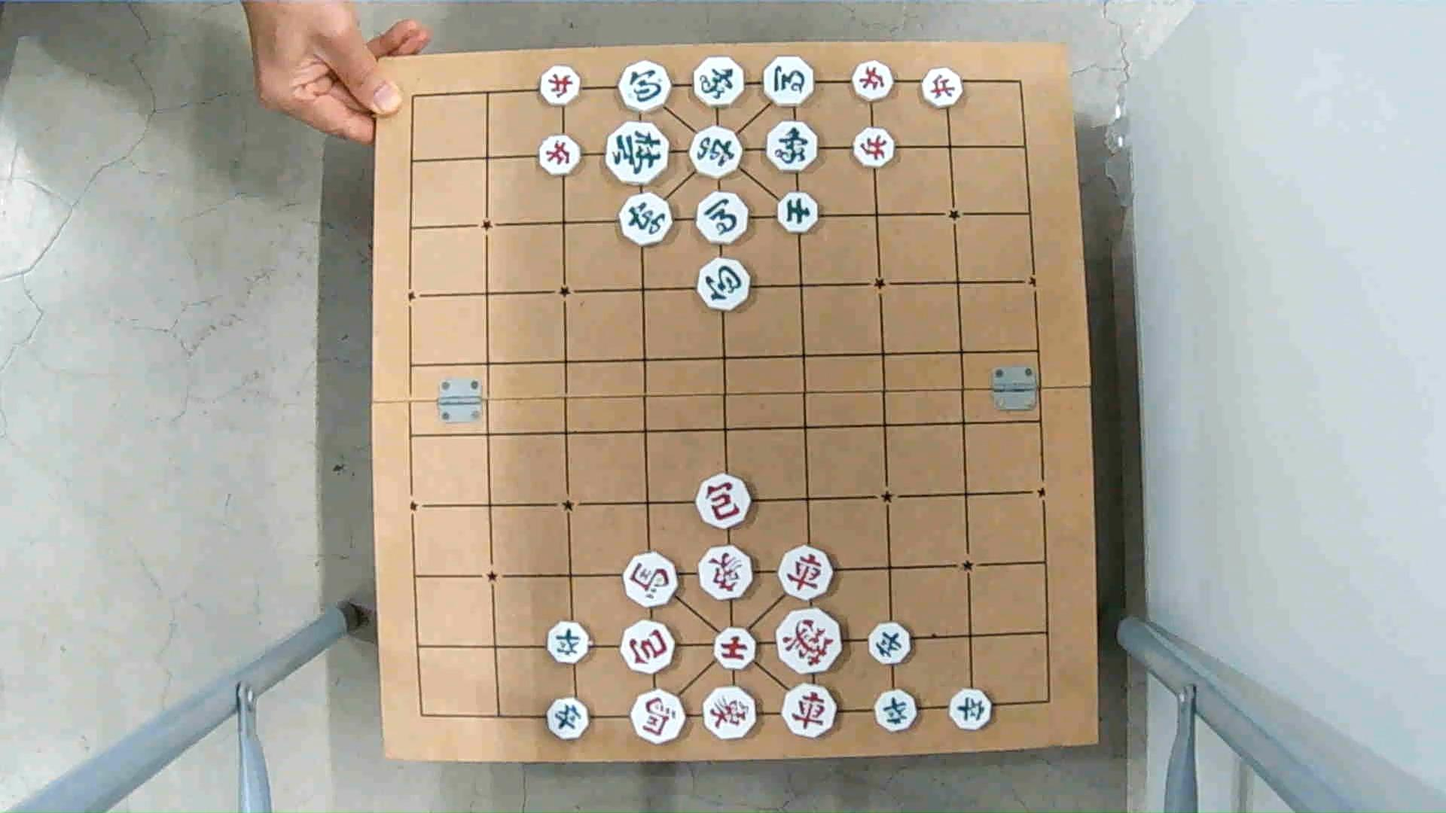cha_green: (688, 128, 743, 177), (621, 196, 676, 245)
cha_red: (781, 684, 841, 735), (778, 550, 837, 599)
jol_green: (866, 623, 912, 663), (548, 623, 594, 662), (549, 697, 592, 738), (872, 692, 917, 731), (949, 690, 995, 728)
jol_red: (852, 128, 898, 166), (538, 136, 581, 174), (851, 61, 894, 99), (921, 70, 964, 107), (540, 69, 582, 105)
ma_green: (696, 189, 750, 241), (761, 59, 816, 107)
ma_red: (623, 555, 681, 607), (632, 693, 688, 742)
po_green: (695, 260, 754, 311), (618, 65, 673, 111)
po_red: (697, 478, 755, 527), (620, 626, 676, 674)
sa_green: (778, 194, 822, 234)
sa_red: (712, 628, 757, 668)
sang_green: (767, 123, 822, 170), (693, 61, 749, 107)
sang_red: (700, 550, 757, 600), (699, 689, 756, 739)
wang_green: (609, 121, 670, 185)
wang_red: (776, 610, 844, 672)
